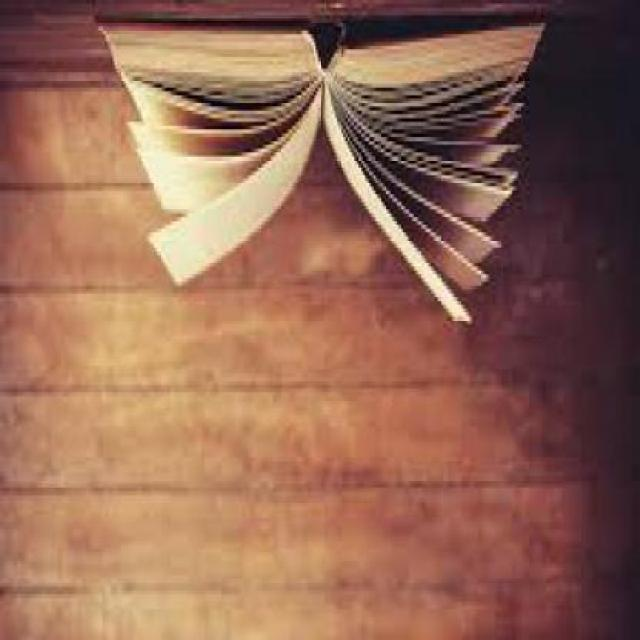PAPER: (94, 15, 546, 328), (146, 84, 322, 285), (322, 95, 469, 328)
